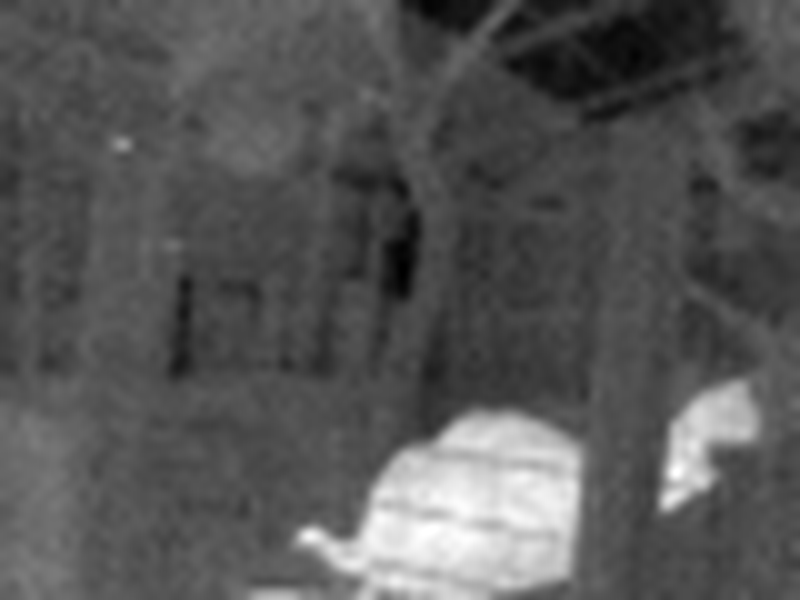elephant: (335, 369, 766, 600)
